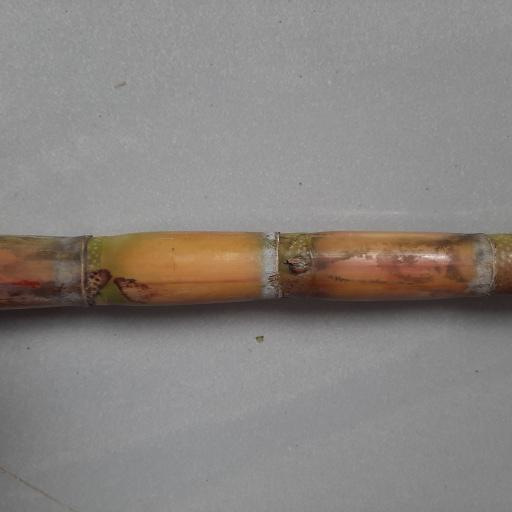Bud: (284, 254, 312, 277)
